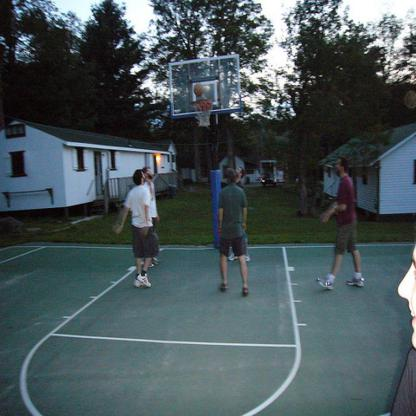face: (399, 246, 416, 350), (337, 161, 343, 174), (146, 170, 154, 179), (140, 172, 146, 181), (235, 168, 241, 175)
